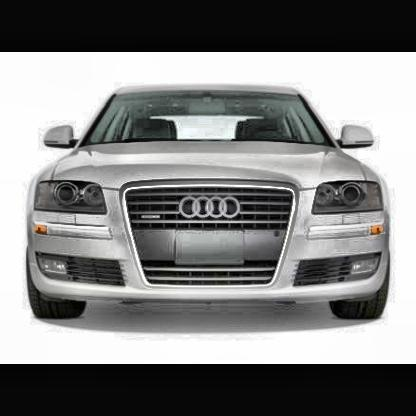Audi S6 Sedan 2011: (23, 79, 395, 326)
